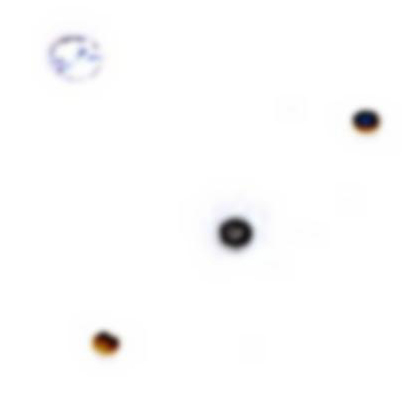abnormal: (34, 19, 124, 97)
cancer: (199, 198, 272, 264)
normal: (85, 308, 149, 366), (341, 92, 398, 153)
